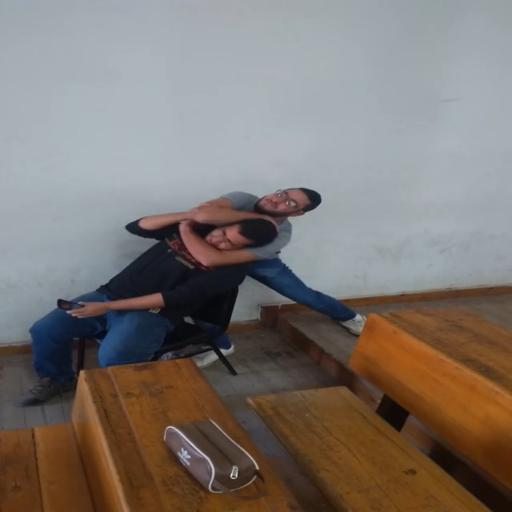violencia: (8, 176, 416, 412)
